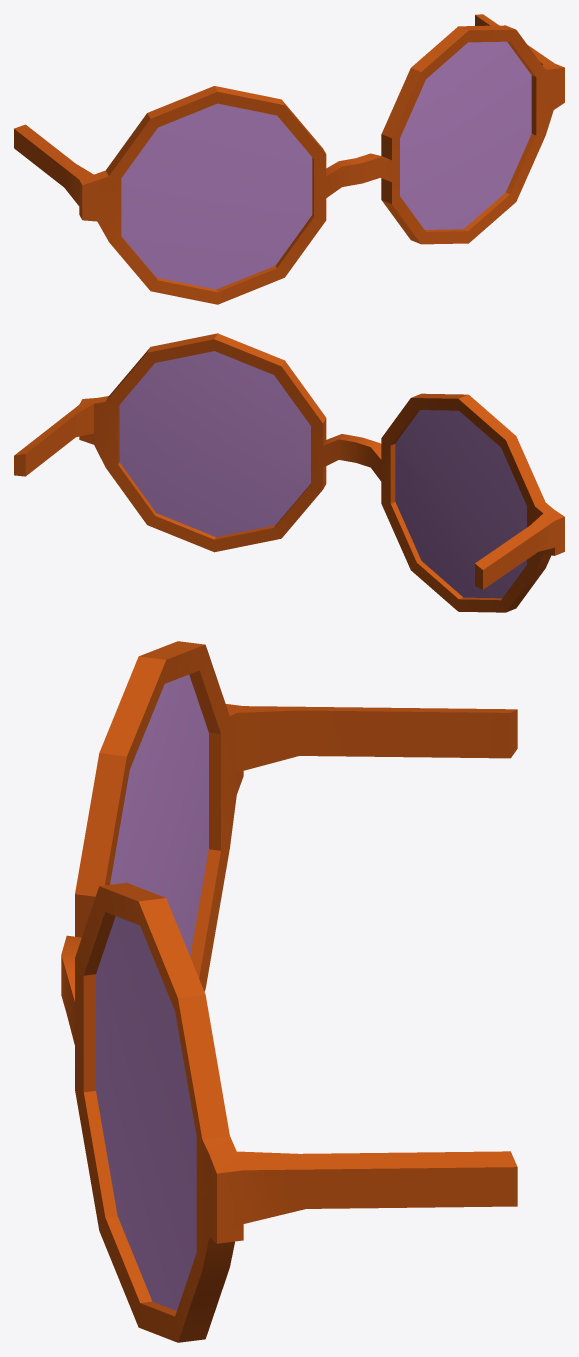
The picture shows the model from 3 angles, top to bottom: view 1: azimuth 30°, elevation 25°; view 2: azimuth 150°, elevation 25°; view 3: azimuth 270°, elevation 25°; orthographic projection. The views are drawn at different scales.
Parts seen in each view (by area): view 1: gl_7; view 2: gl_7; view 3: gl_7.
Boxes of the visible parts, x1=… form: gl_7: x1=14, y1=14, x2=564, y2=304; gl_7: x1=14, y1=333, x2=564, y2=612; gl_7: x1=61, y1=641, x2=517, y2=1342.
Size of the model in its own units: 0.5831 by 0.246 by 0.2387.
